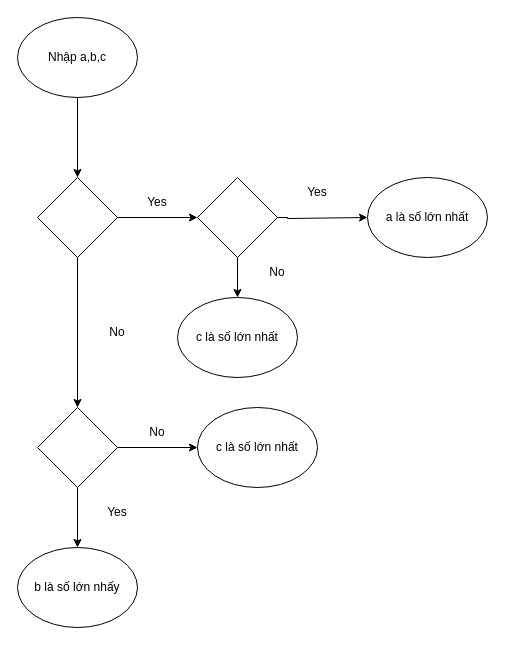
Image size: 505x645. Some labels were removed from this diagram. The centre of each missing label's shape, as x and y in pixels:
a > b: point (77, 217)
a > c: point (237, 217)
b > c: point (77, 447)
